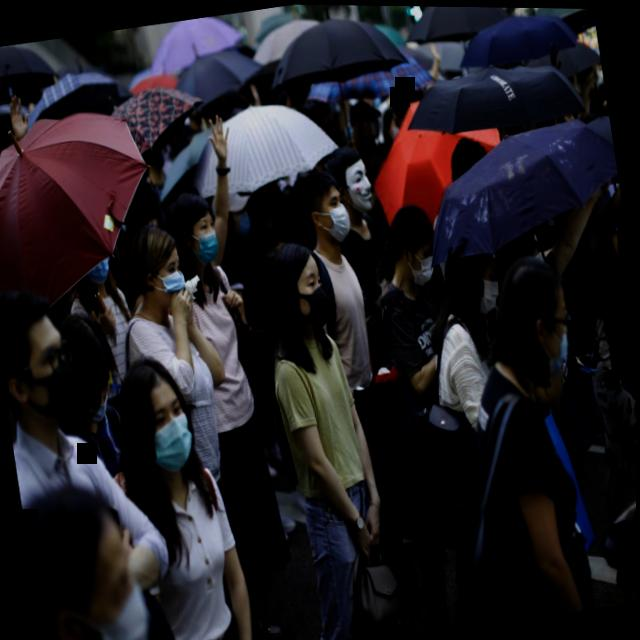Mask: (0, 281, 90, 436), (495, 248, 580, 384), (114, 360, 201, 481), (55, 307, 120, 429), (266, 238, 337, 336), (124, 219, 190, 311), (445, 236, 506, 323), (294, 165, 356, 248), (169, 188, 225, 274), (386, 203, 441, 288)
